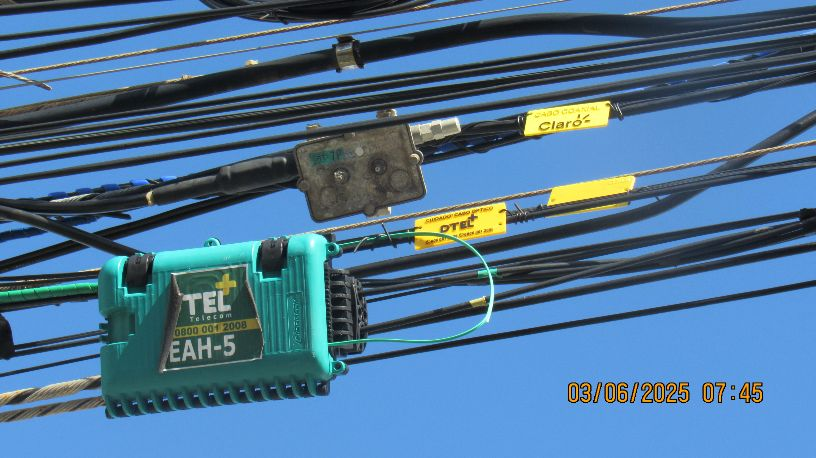coaxial: (66, 99, 622, 227)
fibra_optica: (98, 231, 360, 416), (409, 202, 505, 251)
